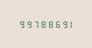eight: (38, 20, 44, 28), (45, 20, 51, 28)
nine: (17, 20, 23, 28), (24, 20, 30, 28), (59, 20, 65, 28)
one: (66, 20, 72, 28)
seven: (31, 20, 37, 28)
six: (52, 20, 58, 28)
